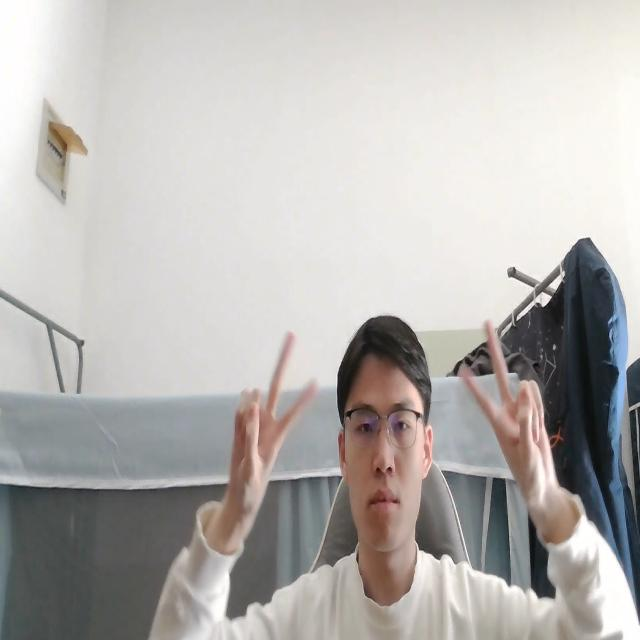yes: (212, 324, 323, 549), (458, 320, 563, 525)
